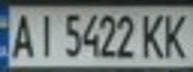2: (96, 10, 121, 60), (115, 10, 139, 60)
4: (78, 10, 100, 58)
5: (57, 9, 84, 58)
A: (3, 9, 36, 60)
I: (30, 10, 57, 60)
K: (157, 9, 193, 60), (139, 10, 169, 60)
